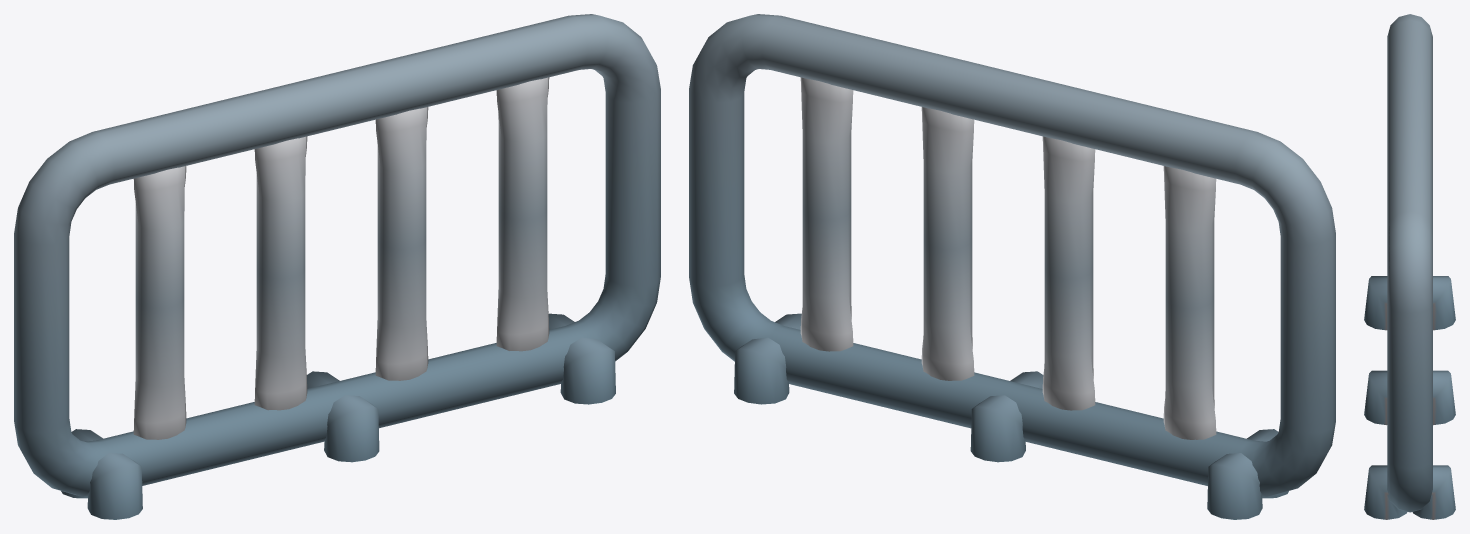
Rendered from Fence.fbx.
3 views of the same model, side by side, from view 1: azimuth 30°, elevation 25°; view 2: azimuth 150°, elevation 25°; view 3: azimuth 270°, elevation 25° (orthographic). The views are drawn at different scales.
Visible parts, largest first — view 1: Fence_Frame, Fence_Vertical; view 2: Fence_Frame, Fence_Vertical; view 3: Fence_Frame.
Part boxes in pixels (x1=…): Fence_Frame: x1=14, y1=14, x2=660, y2=519; Fence_Vertical: x1=133, y1=77, x2=549, y2=439; Fence_Frame: x1=689, y1=14, x2=1335, y2=519; Fence_Vertical: x1=800, y1=77, x2=1216, y2=439; Fence_Frame: x1=1364, y1=14, x2=1455, y2=519.
Size of the model in its own units: 108 by 59.03 by 16.38.
